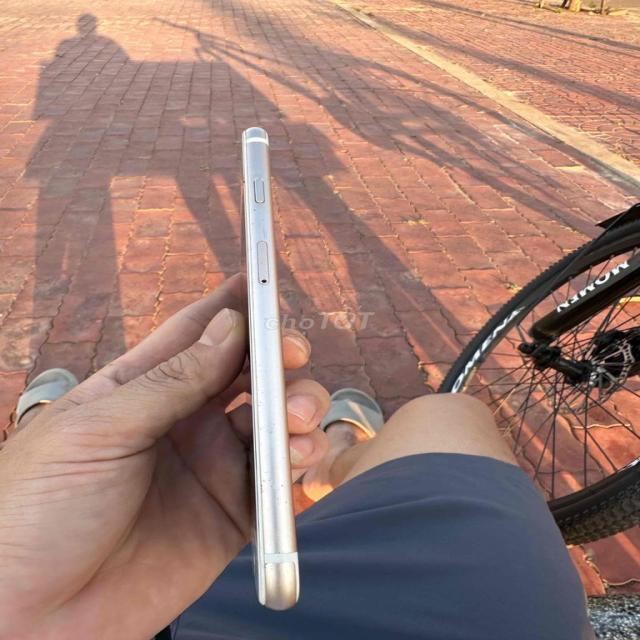gen_6: (232, 121, 319, 617)
